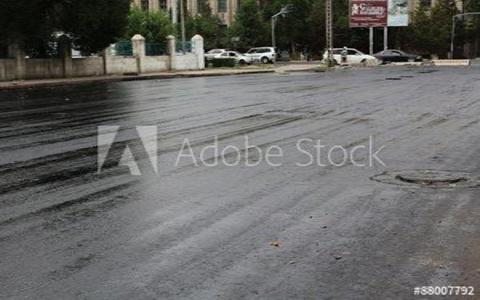Proper road: (52, 187, 382, 289)
